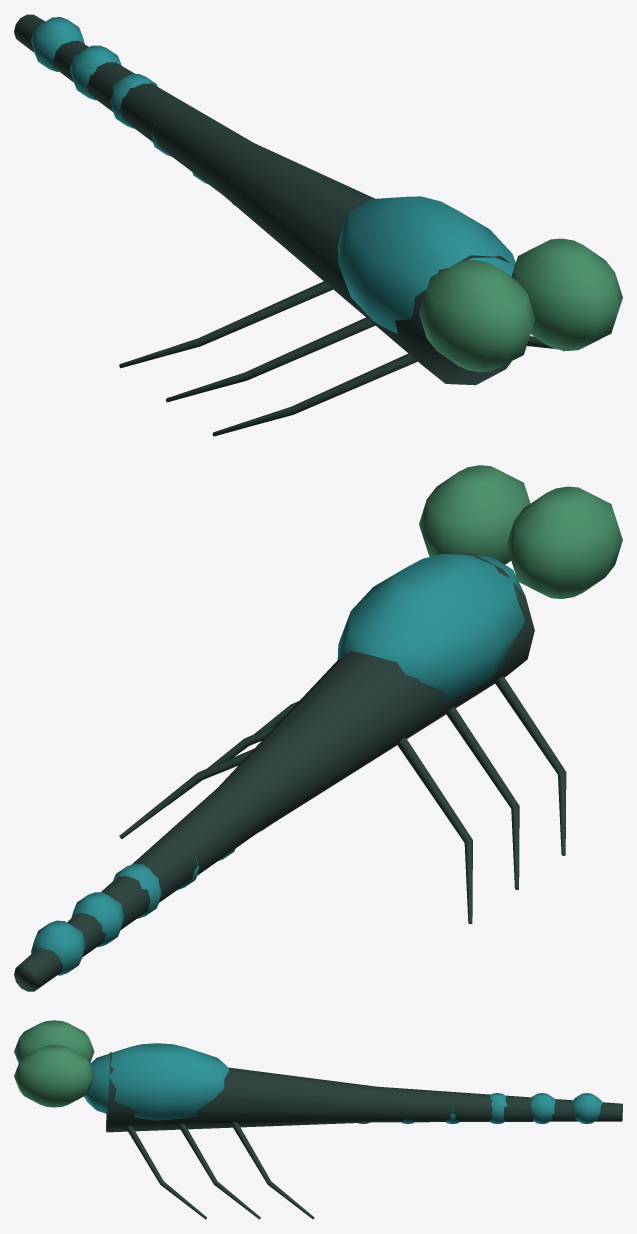
Rendered from dragonfly.meshopt.glb.
The picture shows the model from 3 angles, top to bottom: view 1: azimuth 30°, elevation 25°; view 2: azimuth 150°, elevation 25°; view 3: azimuth 270°, elevation 25°; orthographic projection. The views are drawn at different scales.
Visible parts, largest first — view 1: dragonfly; view 2: dragonfly; view 3: dragonfly.
Boxes of the visible parts, x1,y1,x2,y2 form: dragonfly: (14,14,622,436); dragonfly: (14,465,622,991); dragonfly: (14,1020,622,1219).
Size of the model in its own units: 0.0525 by 0.0327 by 0.1361.
